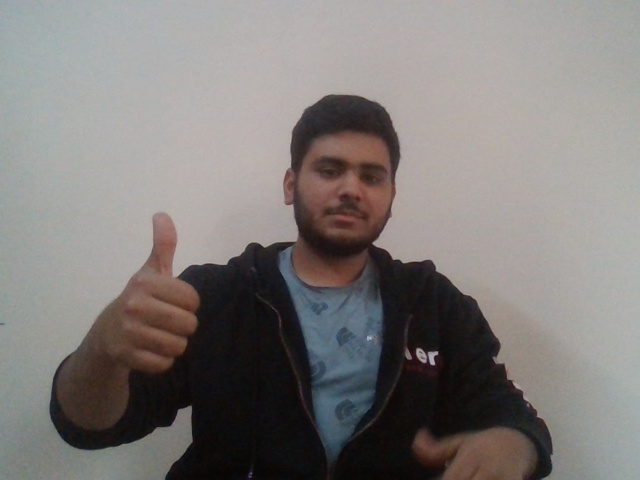Yes: (94, 210, 209, 377)
